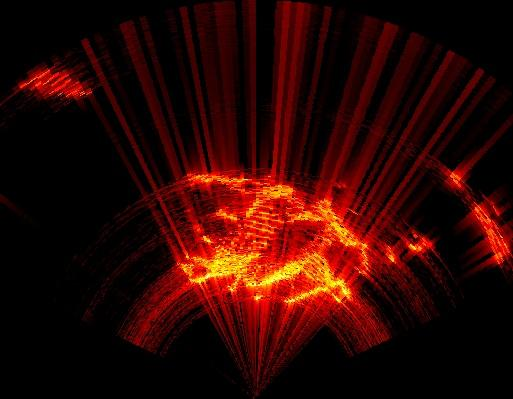shipwreck: (186, 171, 369, 301), (445, 168, 512, 263), (26, 66, 86, 96)
